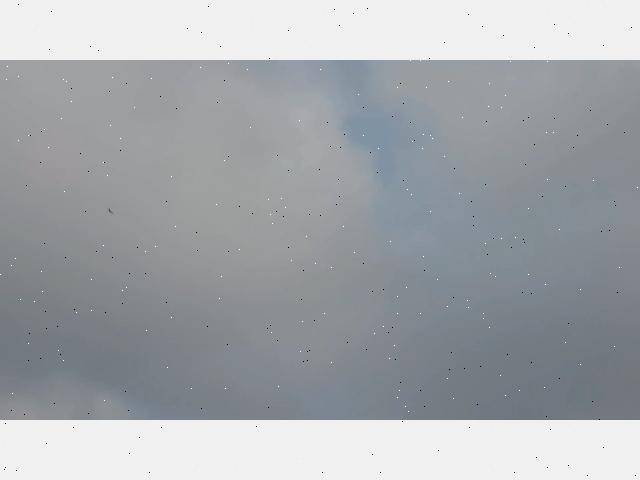Anti-Drone: (108, 207, 114, 215)
